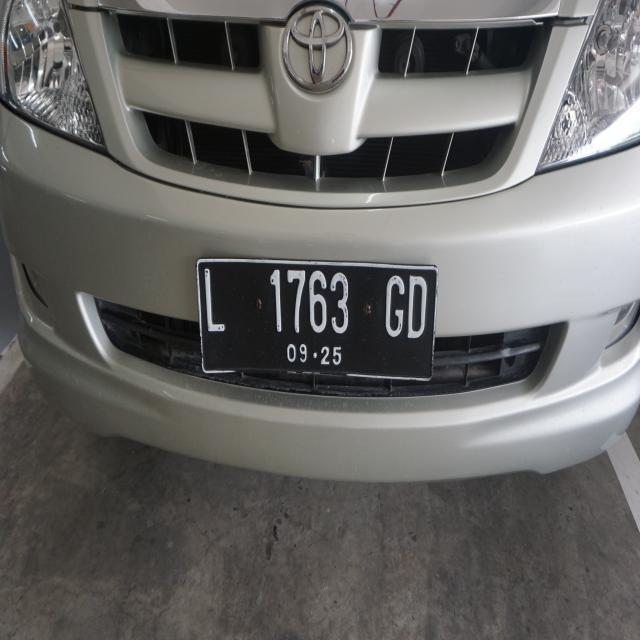1: (266, 260, 287, 341)
3: (328, 267, 353, 338)
6: (306, 268, 328, 336)
7: (286, 268, 309, 340)
D: (405, 268, 427, 344)
G: (382, 271, 406, 341)
L: (199, 262, 231, 344)
